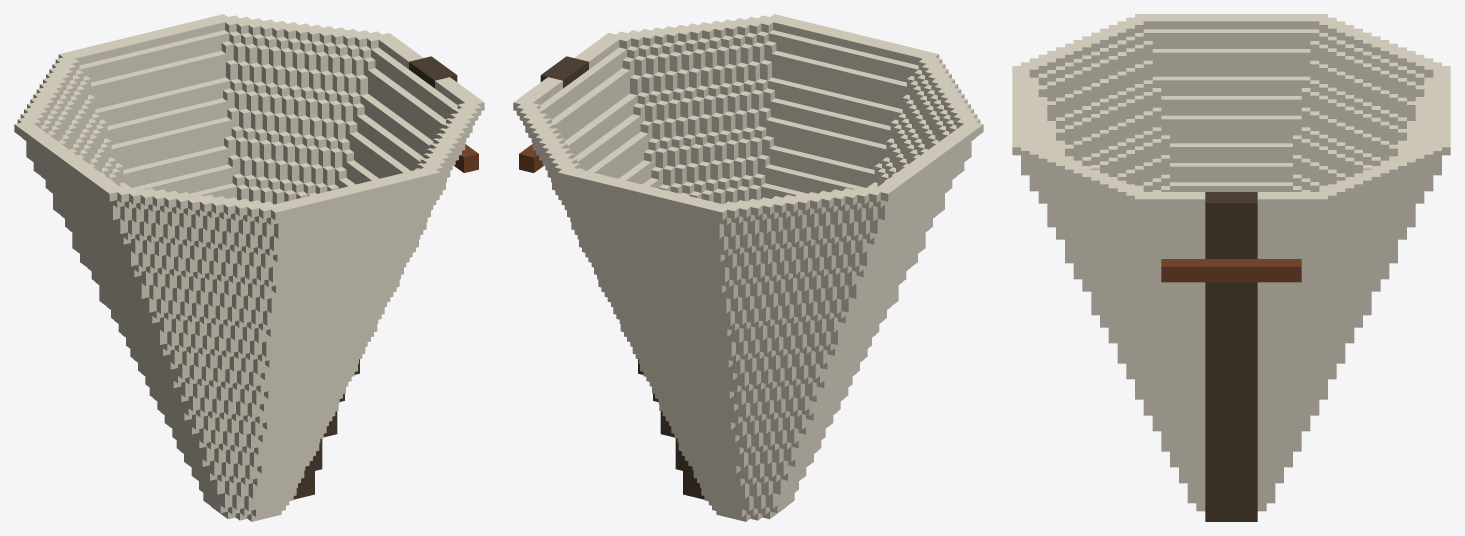
File: birchbark_funnel.glb
The picture shows the model from 3 angles, left to right: view 1: azimuth 30°, elevation 25°; view 2: azimuth 150°, elevation 25°; view 3: azimuth 270°, elevation 25°; orthographic projection.
Visible parts, largest first — view 1: birchbark_funnel:compound; view 2: birchbark_funnel:compound; view 3: birchbark_funnel:compound.
Part boxes in pixels (x1,y1,x2,y2): birchbark_funnel:compound: (14, 14, 484, 521); birchbark_funnel:compound: (513, 14, 983, 521); birchbark_funnel:compound: (1012, 14, 1450, 521).
Bounding box in the file's own units: 0.102 × 0.1 × 0.1.
